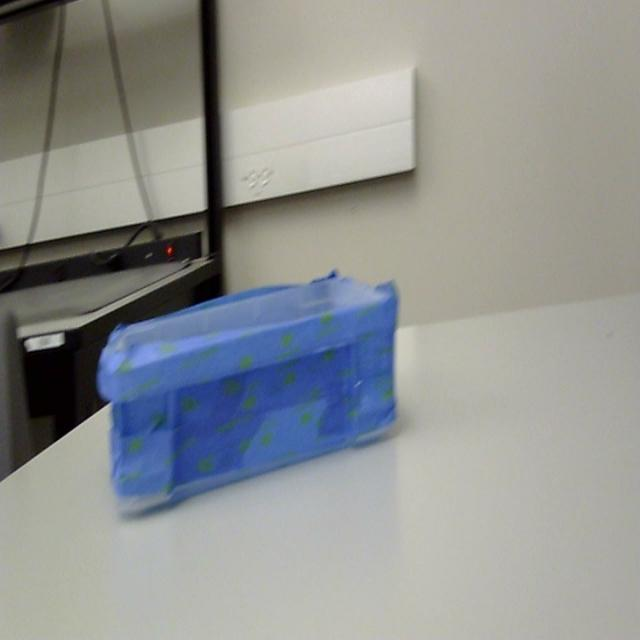bucket: (96, 274, 400, 521)
